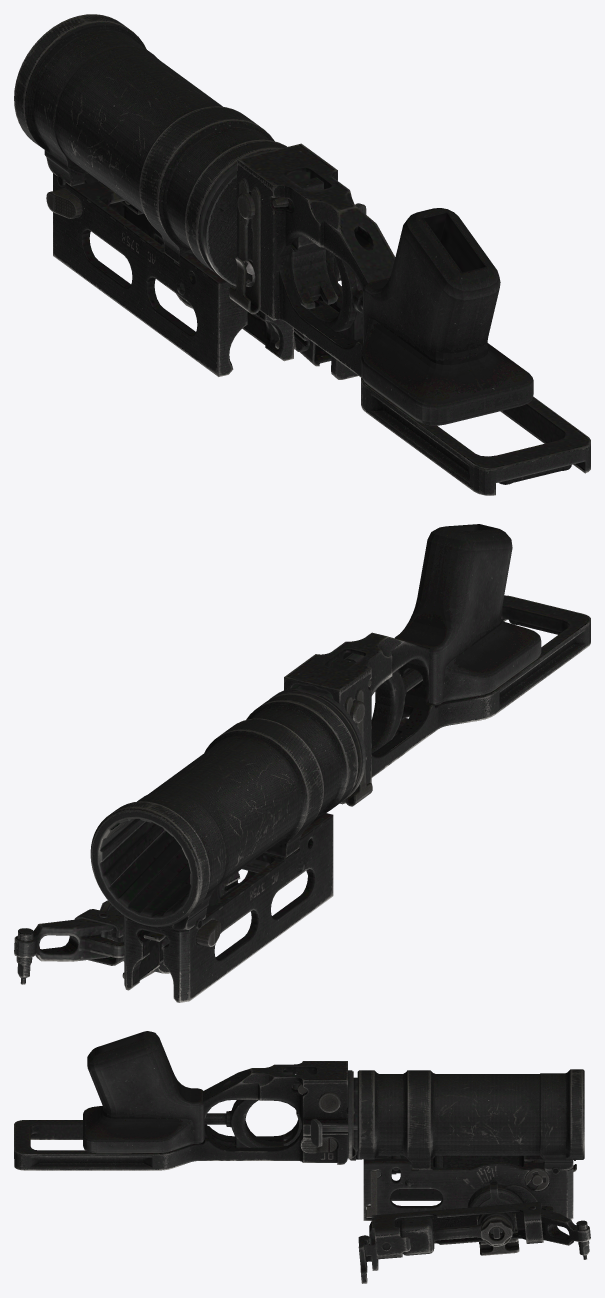
3 views of the same model, one above another, from view 1: azimuth 30°, elevation 25°; view 2: azimuth 150°, elevation 25°; view 3: azimuth 270°, elevation 25° (orthographic). The views are drawn at different scales.
Visible parts, largest first — view 1: TW_62e7e7bbe6da9612f743f1e0_range100_PZ_Import; view 2: TW_62e7e7bbe6da9612f743f1e0_range100_PZ_Import; view 3: TW_62e7e7bbe6da9612f743f1e0_range100_PZ_Import.
Boxes of the visible parts, x1=… form: TW_62e7e7bbe6da9612f743f1e0_range100_PZ_Import: x1=14, y1=14, x2=590, y2=495; TW_62e7e7bbe6da9612f743f1e0_range100_PZ_Import: x1=14, y1=524, x2=590, y2=1002; TW_62e7e7bbe6da9612f743f1e0_range100_PZ_Import: x1=14, y1=1031, x2=590, y2=1283.
Bounding box in the file's own units: 0.0529 × 0.187 × 0.0717.
Materials: 1 (1 with a texture image).
